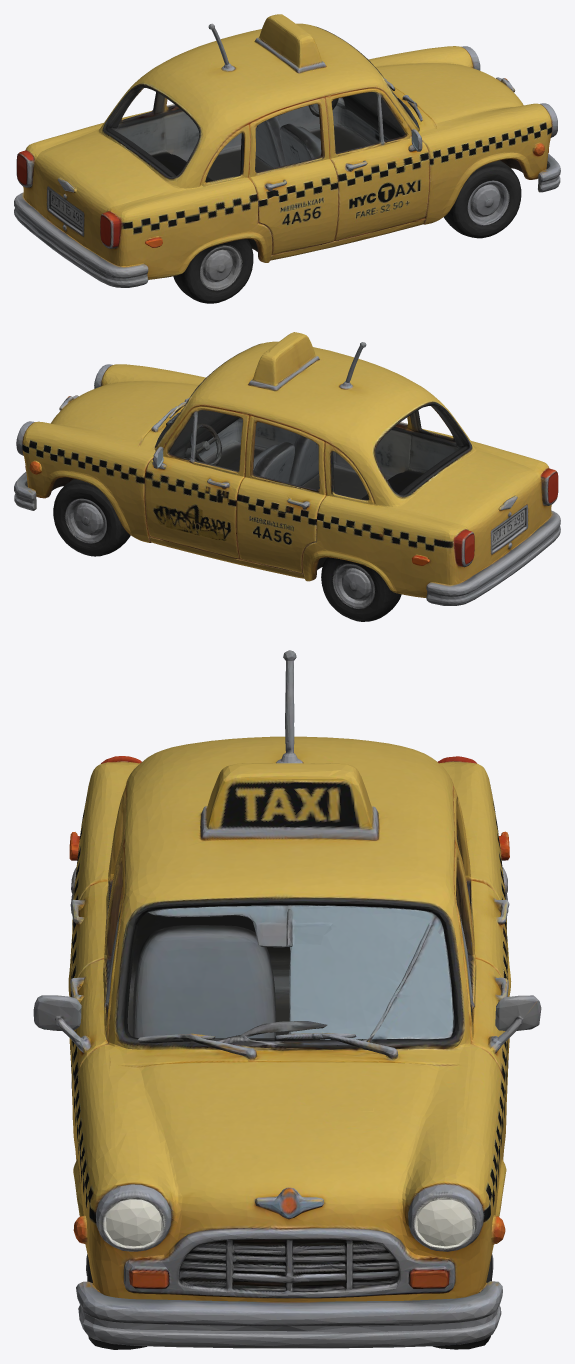
Rendered from taxi.glb.
3 views of the same model, one above another, from view 1: azimuth 30°, elevation 25°; view 2: azimuth 150°, elevation 25°; view 3: azimuth 270°, elevation 25° (orthographic). The views are drawn at different scales.
Visible parts, largest first — view 1: tripo_node_abdfb1f8-f4f6-416e-83d2-a567e653b20c; view 2: tripo_node_abdfb1f8-f4f6-416e-83d2-a567e653b20c; view 3: tripo_node_abdfb1f8-f4f6-416e-83d2-a567e653b20c.
Part boxes in pixels (x1=…): tripo_node_abdfb1f8-f4f6-416e-83d2-a567e653b20c: x1=14, y1=14, x2=560, y2=303; tripo_node_abdfb1f8-f4f6-416e-83d2-a567e653b20c: x1=14, y1=332, x2=560, y2=621; tripo_node_abdfb1f8-f4f6-416e-83d2-a567e653b20c: x1=33, y1=650, x2=541, y2=1349.
Bounding box in the file's own units: 1 × 0.4821 × 0.4734.
Materials: 1 (1 with a texture image).
